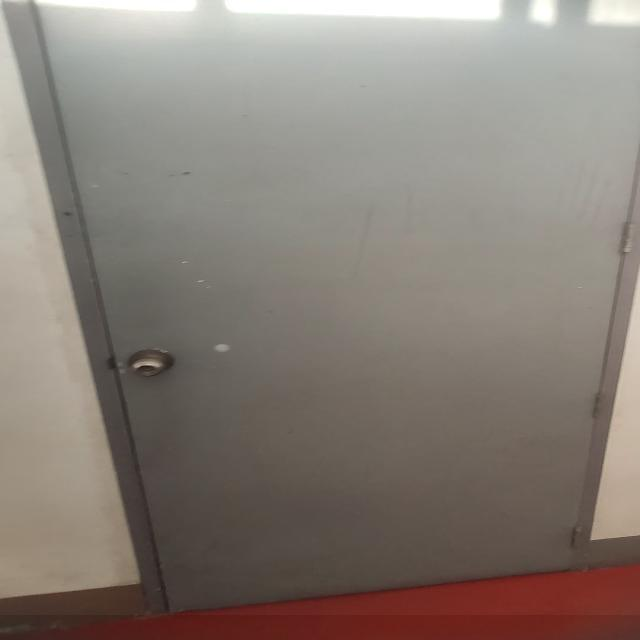door: (0, 0, 640, 615)
